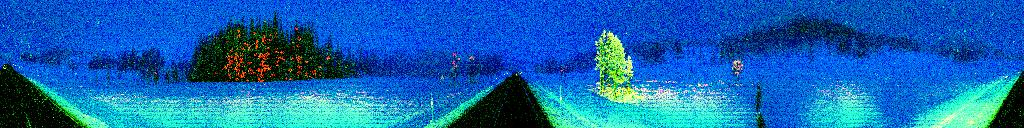pole: (429, 91, 436, 122), (558, 81, 564, 107)
